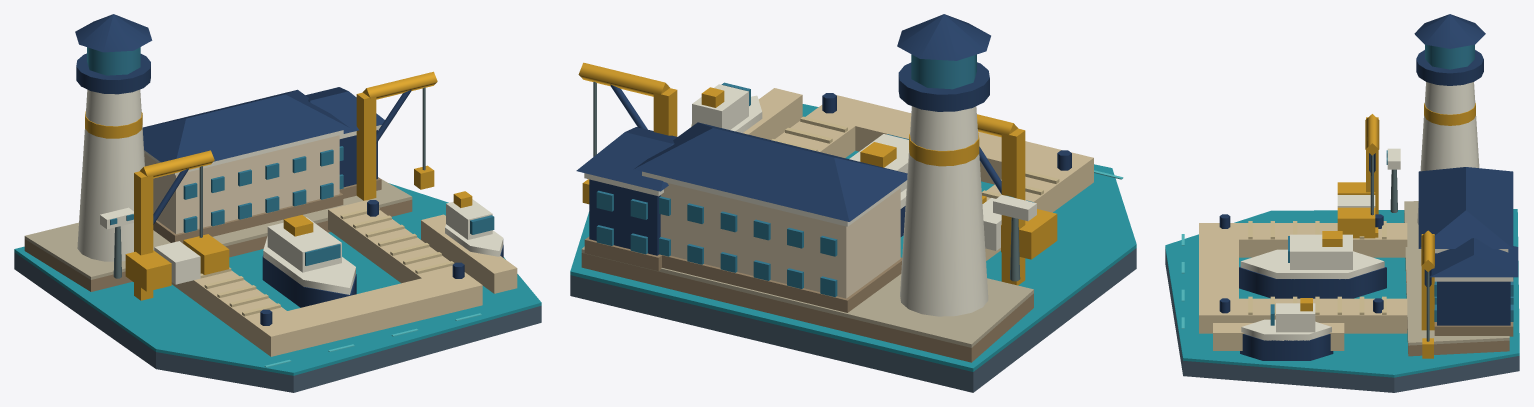
The model's file is port-lv3.glb.
3 renders of one model, left to right at view 1: azimuth 30°, elevation 25°; view 2: azimuth 150°, elevation 25°; view 3: azimuth 270°, elevation 25°, orthographic. The views are drawn at different scales.
Parts seen in each view (by area): view 1: foundation_water, pier_stone, foundation_slate, warehouse_cream, warehouse_roof_naval, lighthouse_white, cranes_ochre, vessel_white, quay_paving, outer_pier_stone, cargo_ochre, warehouse_windows_glass (+18 smaller); view 2: foundation_water, lighthouse_white, warehouse_cream, warehouse_roof_naval, foundation_slate, pier_stone, quay_stoneDark, quay_paving, cranes_ochre, warehouse_windows_glass, warehouse_stoneDark, warehouse_annex_roof_naval (+18 smaller); view 3: foundation_water, pier_stone, warehouse_roof_naval, vessel_white, foundation_slate, vessel_naval, lighthouse_white, warehouse_annex_naval, quay_paving, warehouse_annex_roof_naval, cranes_ochre, lighthouse_roof_naval (+13 smaller).
Boxes of the visible parts, x1,y1,x2,y2 form: foundation_water: [14, 183, 541, 375]; pier_stone: [171, 200, 482, 356]; foundation_slate: [14, 252, 541, 392]; warehouse_cream: [144, 135, 339, 233]; warehouse_roof_naval: [142, 89, 349, 162]; lighthouse_white: [77, 89, 144, 261]; cranes_ochre: [134, 71, 437, 300]; vessel_white: [263, 199, 503, 294]; quay_paving: [24, 179, 412, 279]; outer_pier_stone: [421, 214, 517, 293]; cargo_ochre: [125, 234, 229, 291]; warehouse_windows_glass: [183, 149, 333, 232]; foundation_water: [570, 104, 1136, 371]; lighthouse_white: [900, 106, 988, 316]; warehouse_cream: [660, 183, 900, 298]; warehouse_roof_naval: [633, 122, 907, 221]; foundation_slate: [570, 248, 1136, 392]; pier_stone: [775, 95, 1093, 260]; quay_stoneDark: [581, 253, 1033, 362]; quay_paving: [581, 246, 1033, 347]; cranes_ochre: [578, 62, 1025, 285]; warehouse_windows_glass: [659, 196, 837, 297]; warehouse_stoneDark: [660, 254, 902, 312]; warehouse_annex_roof_naval: [576, 127, 677, 191]; foundation_water: [1165, 209, 1519, 377]; pier_stone: [1199, 223, 1407, 333]; warehouse_roof_naval: [1418, 167, 1513, 248]; vessel_white: [1240, 234, 1384, 340]; foundation_slate: [1165, 250, 1519, 392]; vessel_naval: [1239, 267, 1386, 360]; lighthouse_white: [1417, 82, 1479, 224]; warehouse_annex_naval: [1437, 281, 1510, 325]; quay_paving: [1404, 201, 1509, 345]; warehouse_annex_roof_naval: [1430, 238, 1518, 277]; cranes_ochre: [1365, 114, 1434, 330]; lighthouse_roof_naval: [1414, 14, 1485, 48].
Size of the model in its own units: 1 by 0.6751 by 0.9036.
